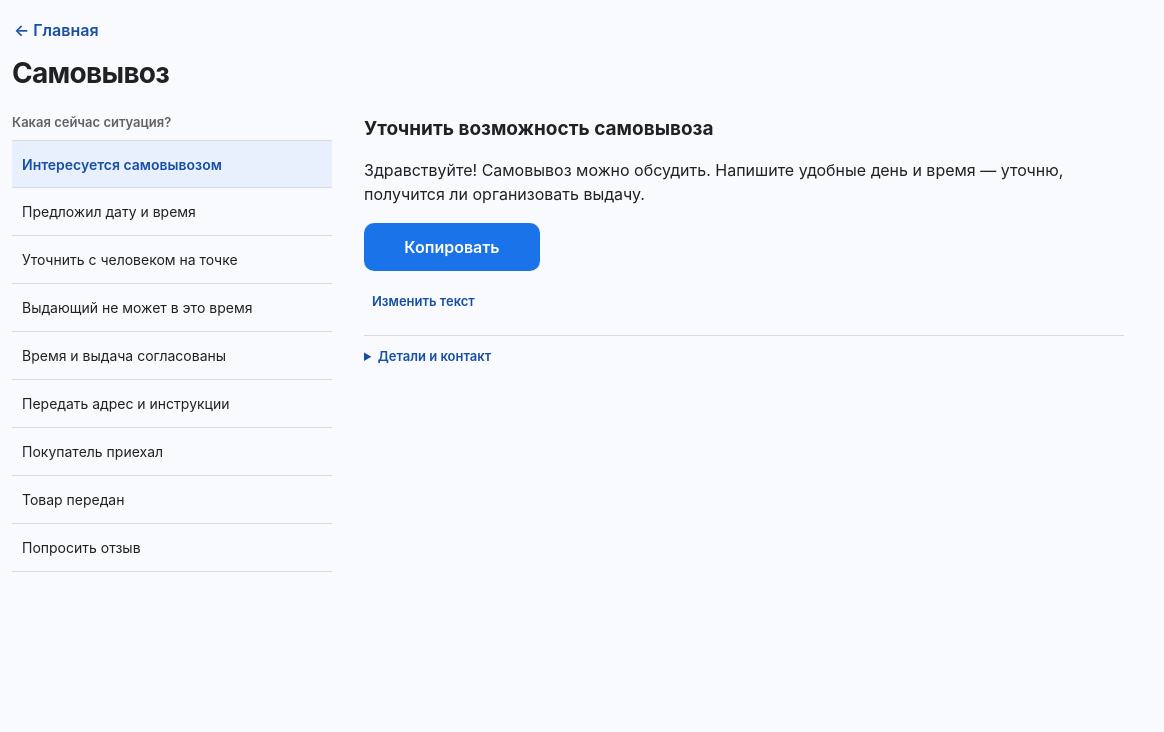
Test: scenario workspace › labels point-of-sale coordination as internal
This screenshot has width=1164, height=732.
Click the button "Уточнить с человеком на точке": click(172, 260) [12,236,332,284]
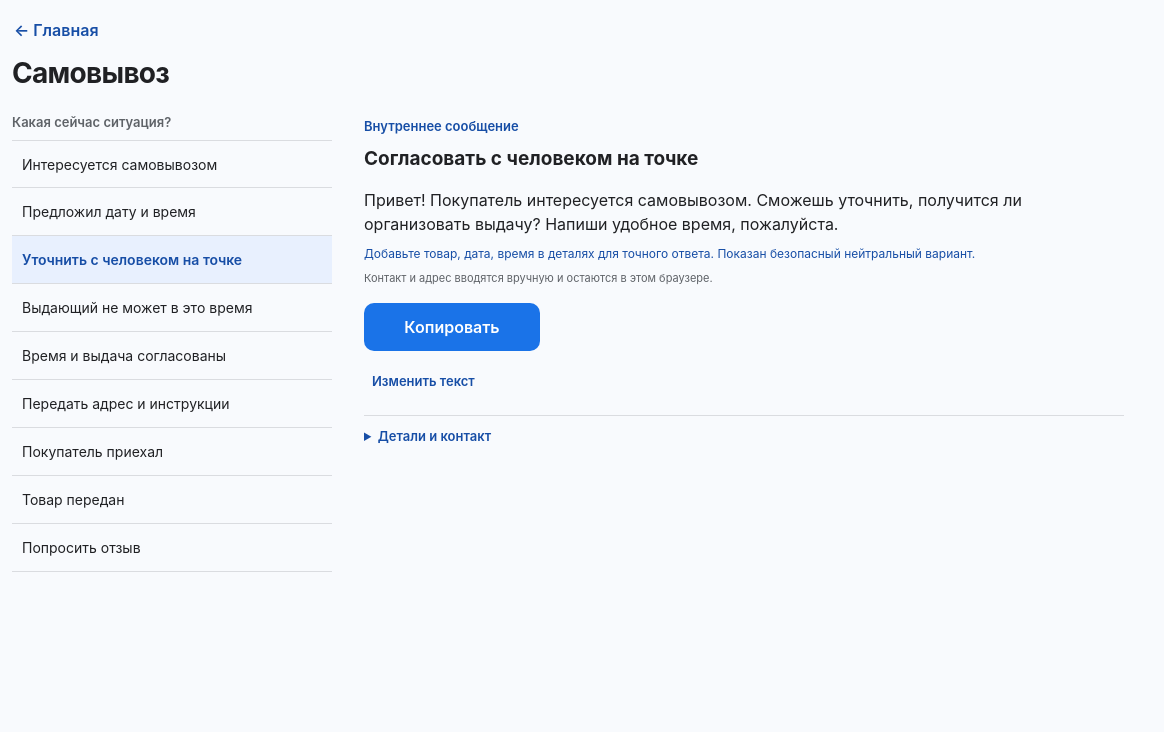
expect the button "Копировать" is enabled: met, box [364,303,540,351]
expect the text "Внутреннее сообщение" is shown: met, box [364,118,519,134]
